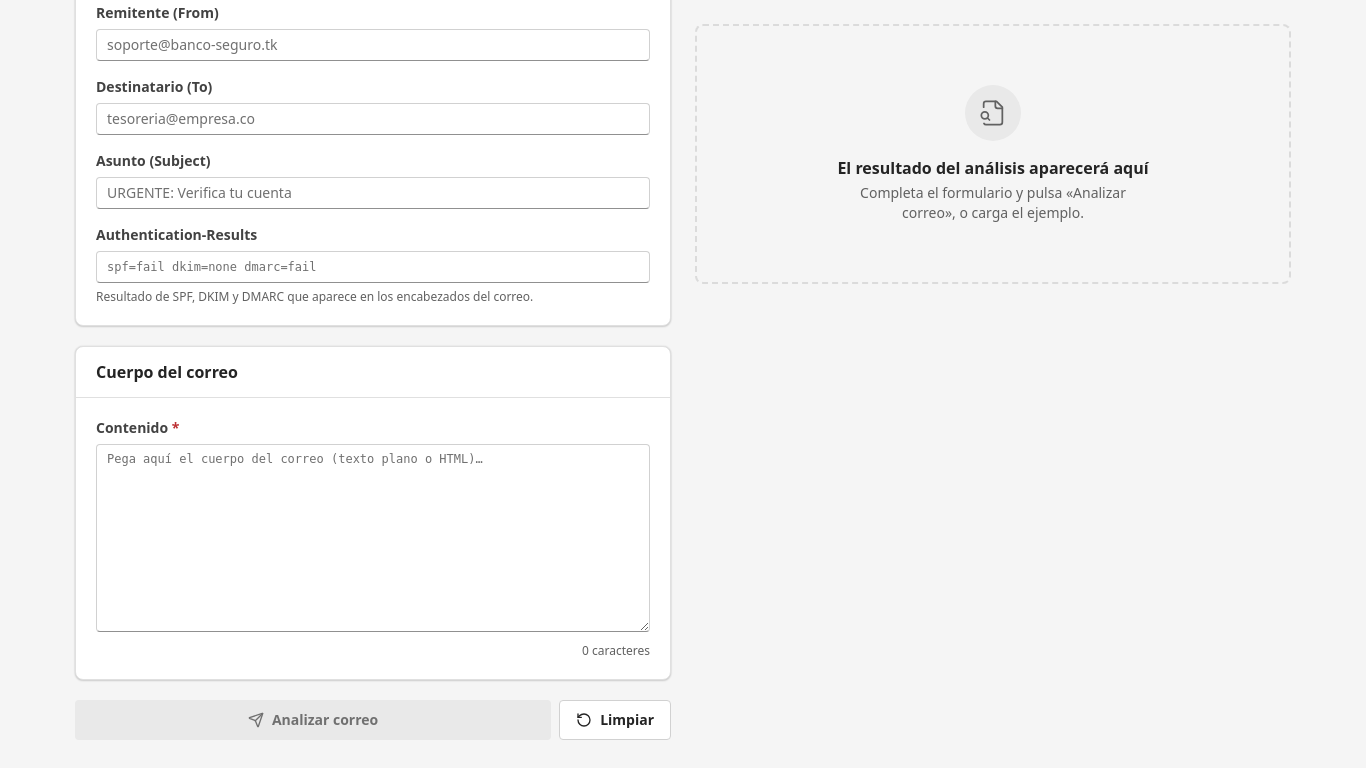
Scenario: AnalyzePage — análisis de correo phishing › muestra score y clasificación tras analizar correo phishing
(page scrolled)
In the text box with placeholder "Pega aquí el cuerpo del correo (texto plano o HTML)…": coordinates (373, 538) [96, 444, 650, 632], type "Actualiza tu cuenta bancaria URGENTE"
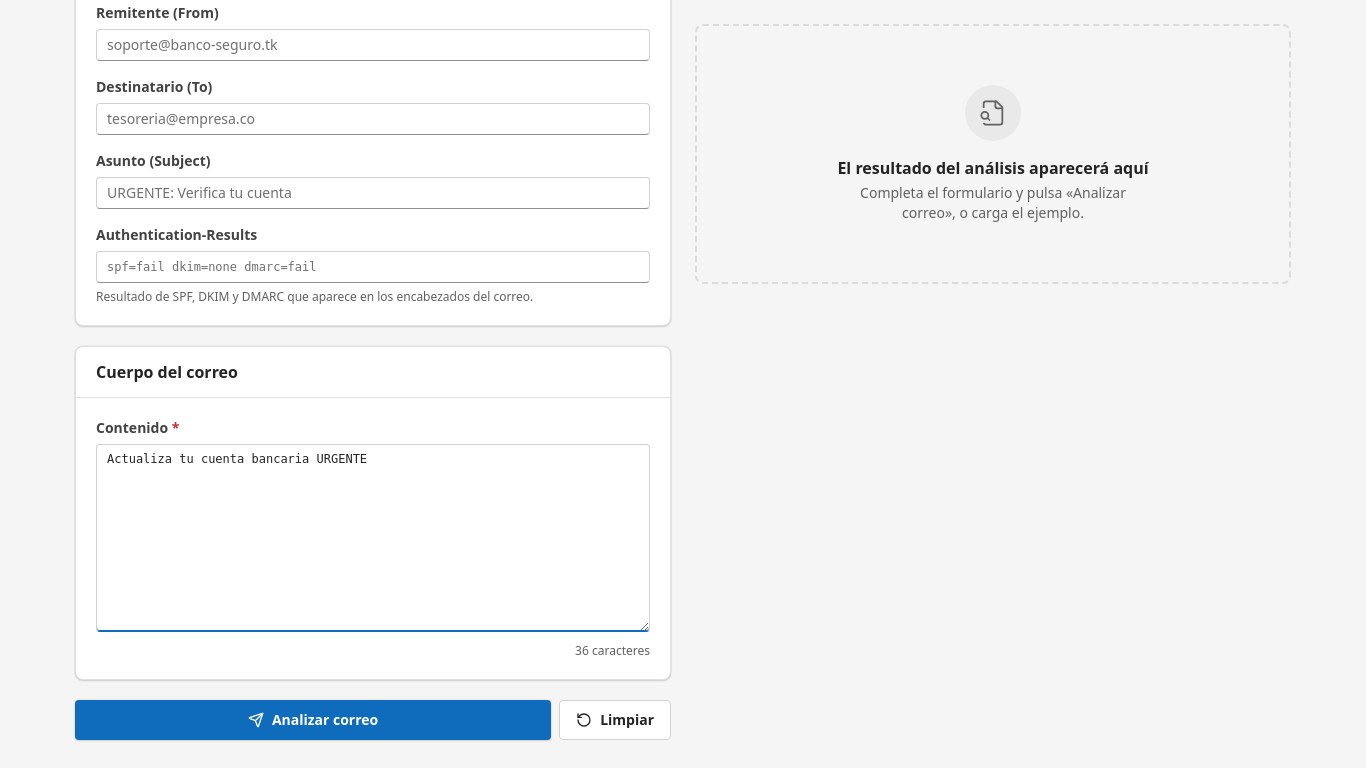
Click the button "Analizar correo": coordinates (313, 720) [75, 700, 551, 740]
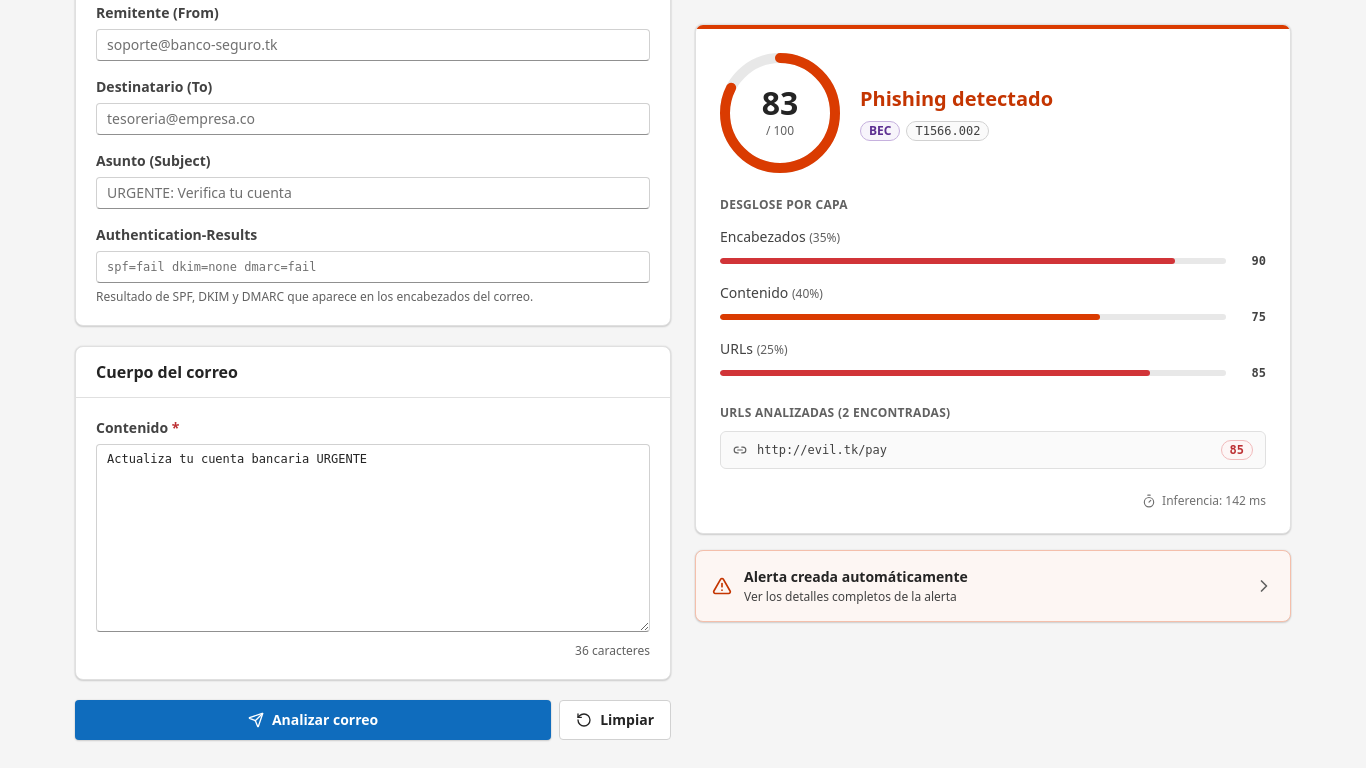
Result: the text "83" is shown at [762, 87, 798, 119]
Result: the text "Phishing detectado" is shown at [860, 85, 1053, 113]
